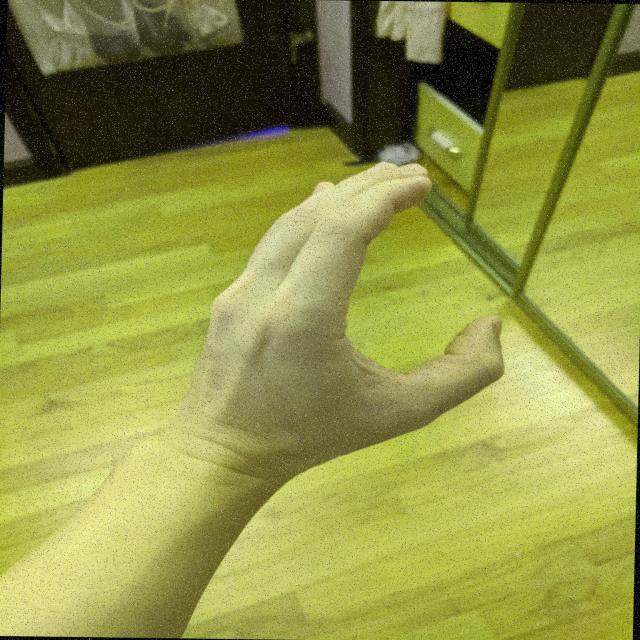C: (154, 152, 518, 482)
